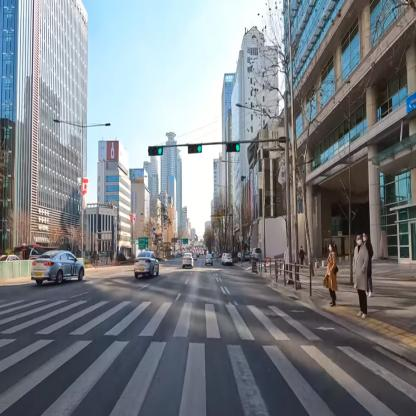Green: (149, 143, 164, 156), (225, 142, 240, 153), (188, 145, 202, 155)
